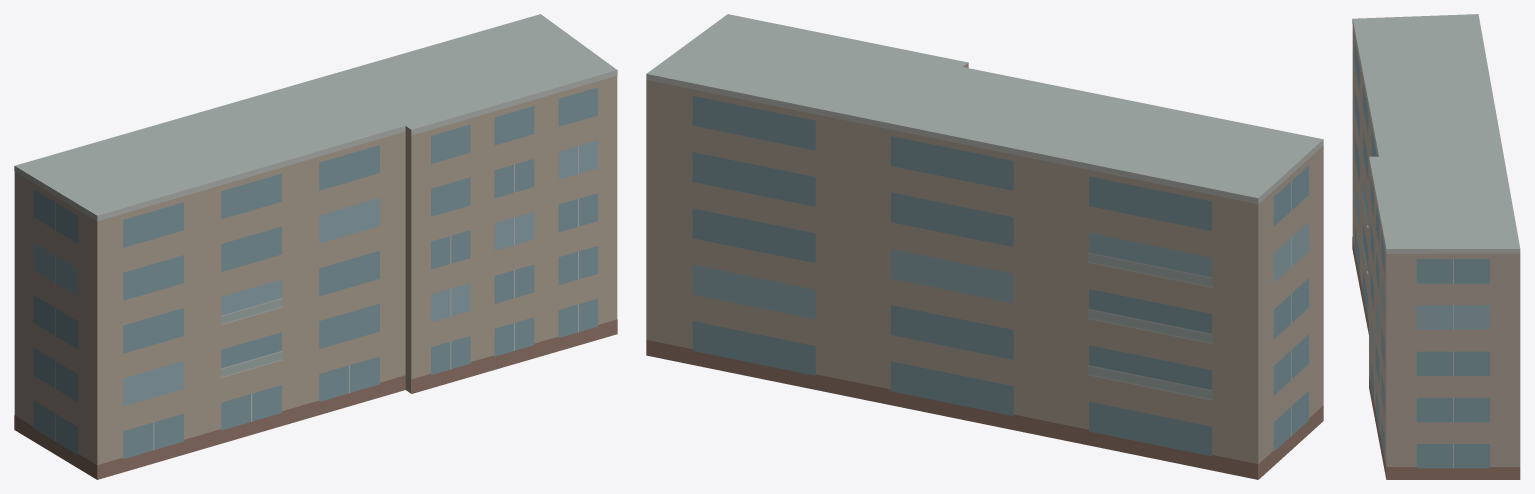
Rendered from survey-upis-32750130.glb.
3 views of the same model, side by side, from view 1: azimuth 30°, elevation 25°; view 2: azimuth 150°, elevation 25°; view 3: azimuth 270°, elevation 25° (orthographic). The views are drawn at different scales.
Parts seen in each view (by area): view 1: survey-upis-32750130.tmp; view 2: survey-upis-32750130.tmp; view 3: survey-upis-32750130.tmp.
Part boxes in pixels (x1,y1,x2,y2): survey-upis-32750130.tmp: (14, 14, 617, 479); survey-upis-32750130.tmp: (646, 14, 1323, 479); survey-upis-32750130.tmp: (1352, 14, 1520, 479).
Bounding box in the file's own units: 24.87 × 11.4 × 7.52.
